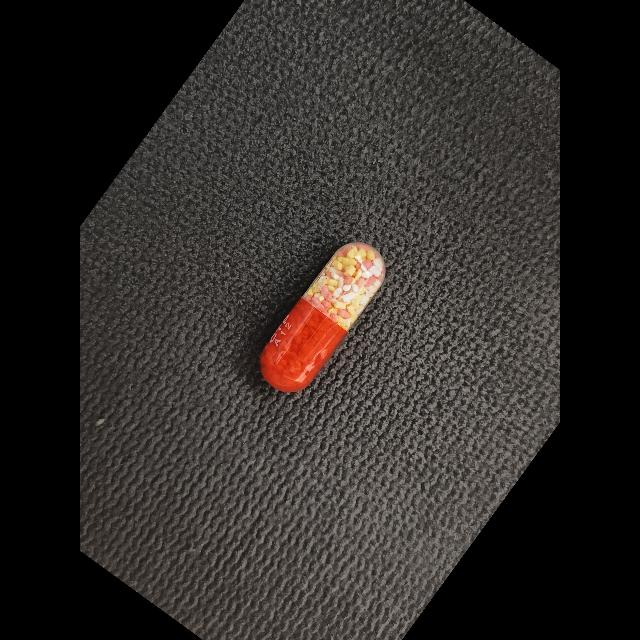Intact Capsule: (260, 242, 386, 392)
